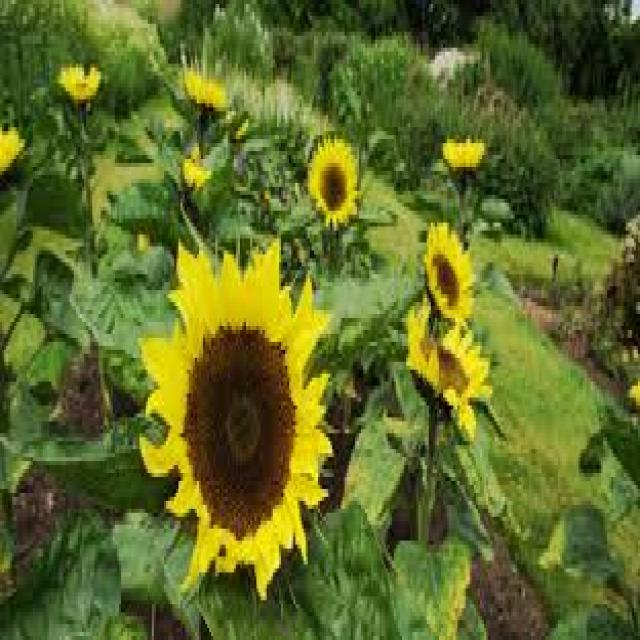sunflower: (134, 232, 341, 618), (394, 293, 498, 452), (420, 208, 485, 330), (303, 131, 365, 245), (173, 49, 234, 131), (434, 136, 504, 187), (55, 47, 104, 112), (0, 114, 33, 206), (172, 145, 224, 189)
